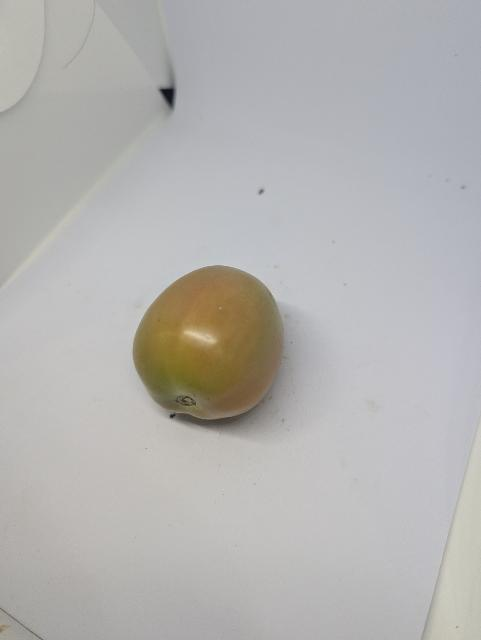breaker: (133, 266, 284, 419)
